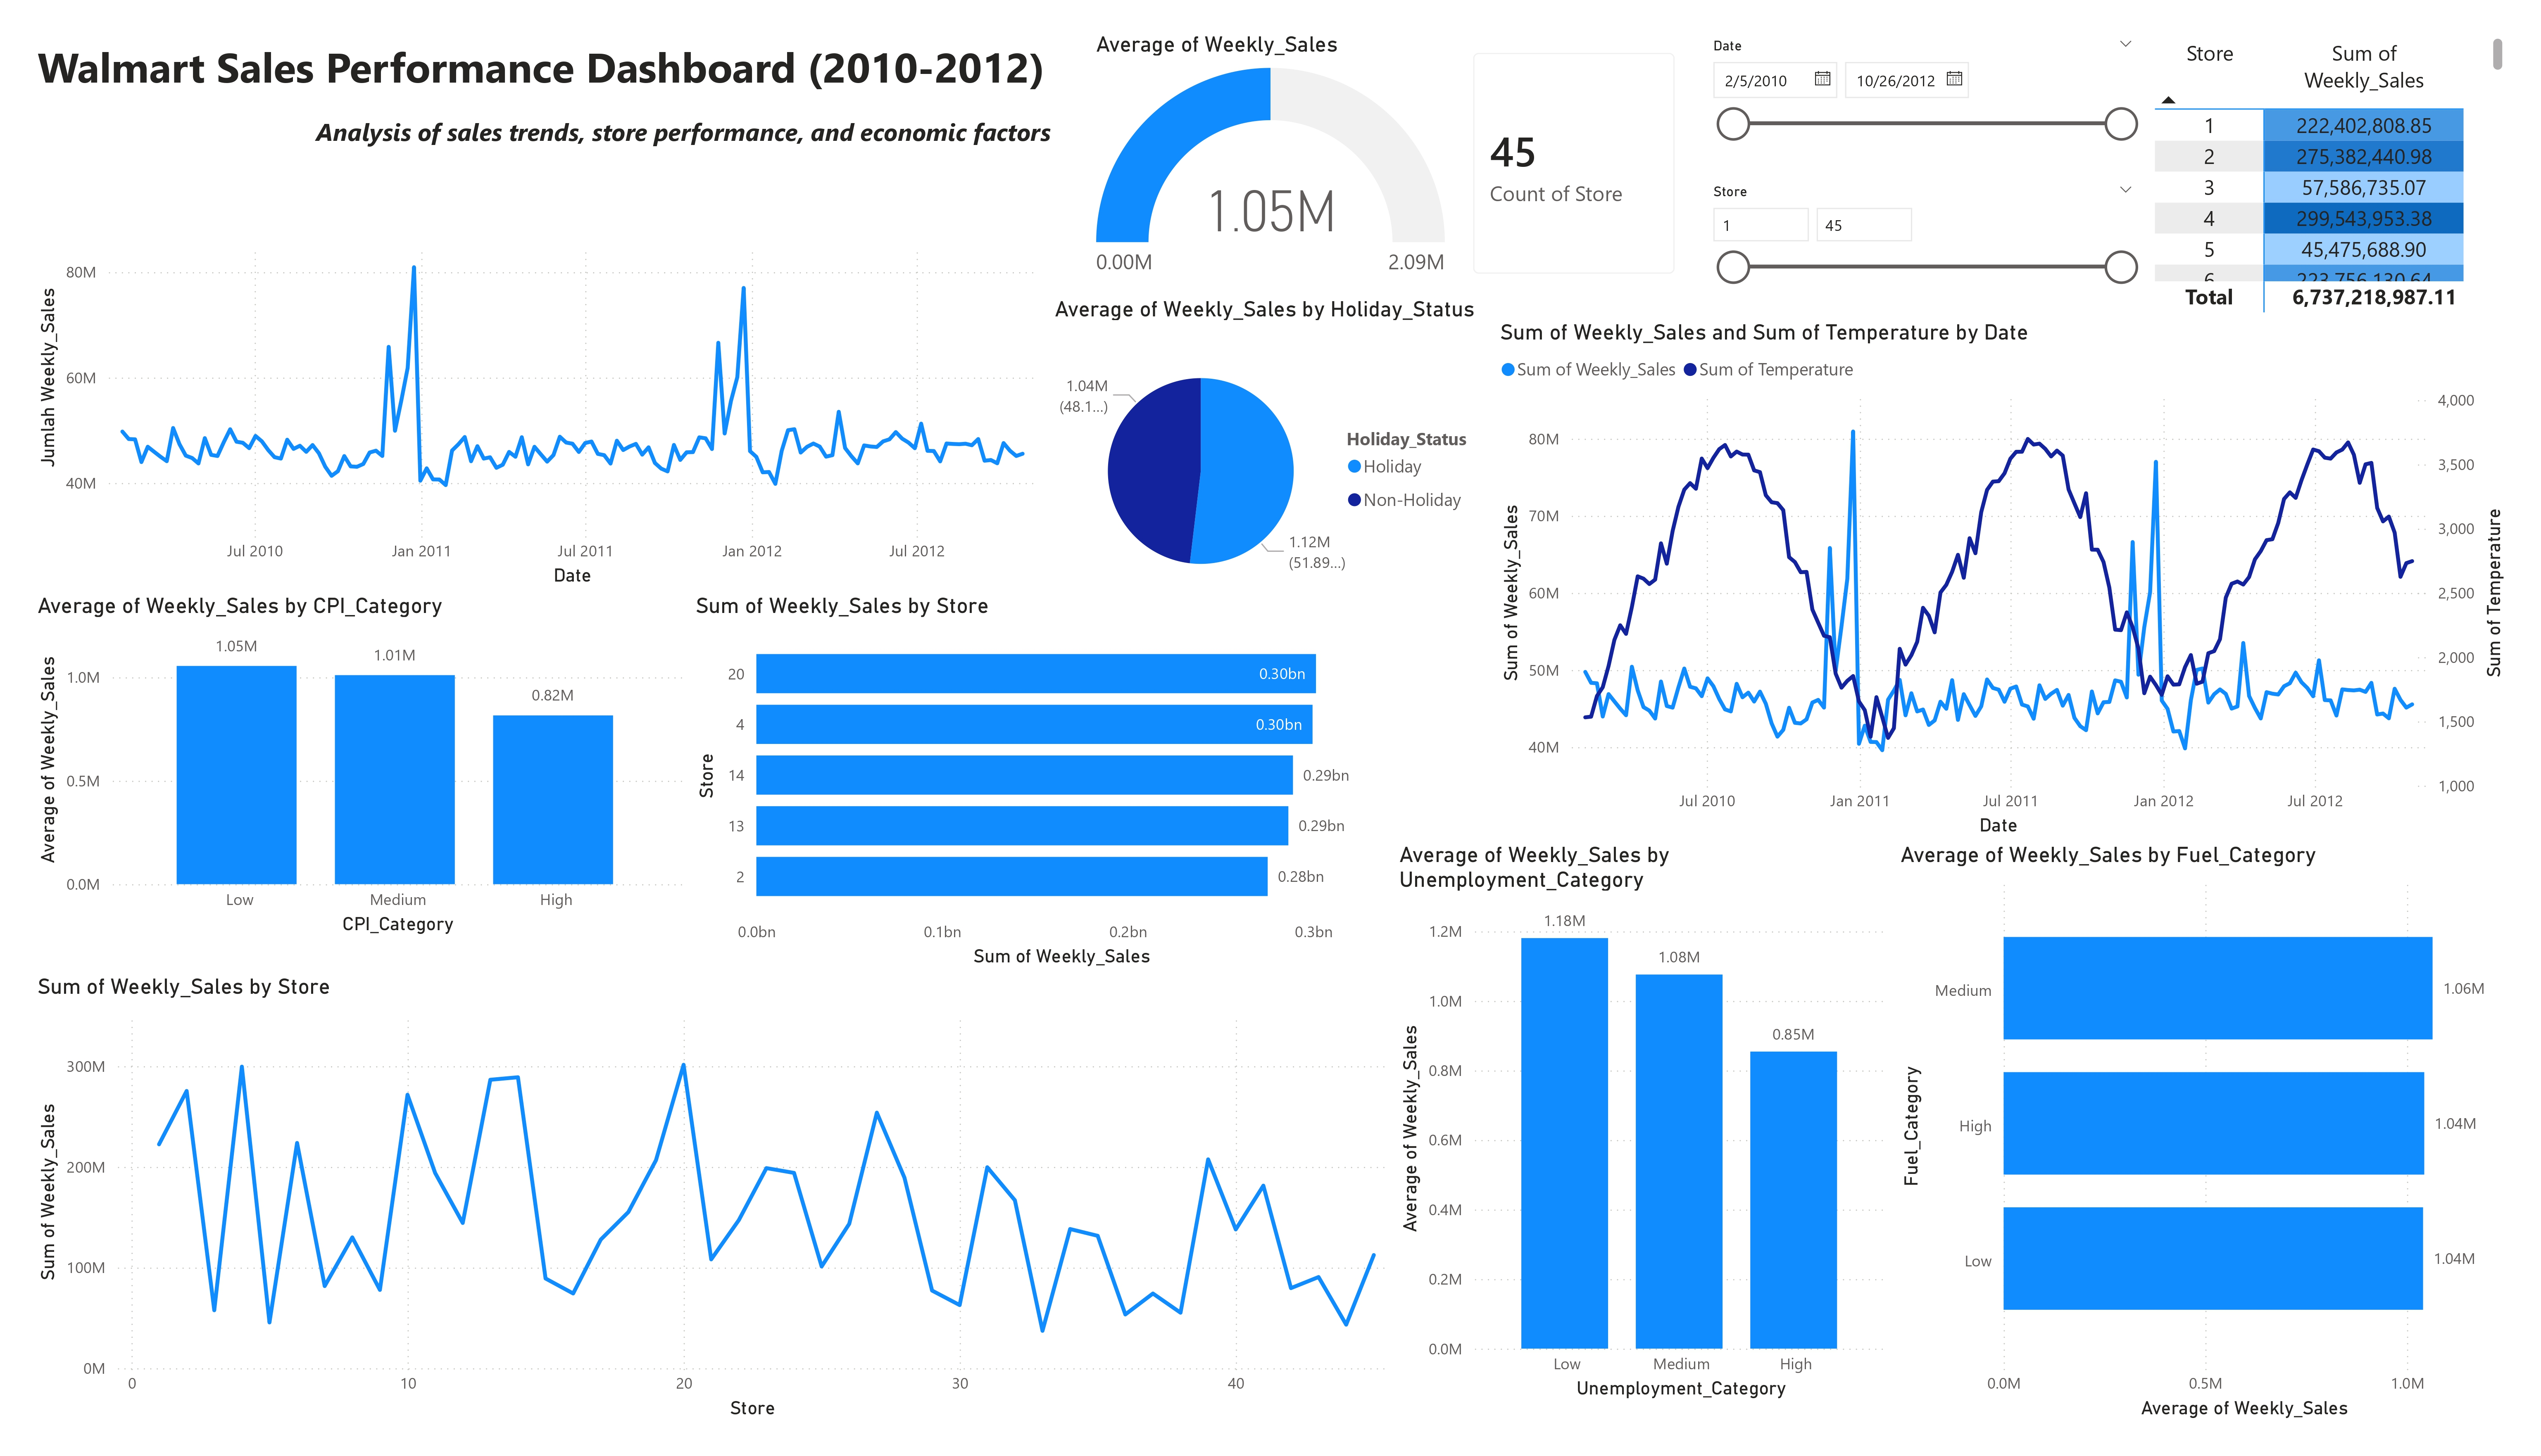

The page's visual inventory and layout, read from the dashboard file:
{"tool":"powerbi","page":{"name":"Halaman 1","canvas":[1920,1080],"ordinal":0},"visuals":[{"type":"cardVisual","fields":{"Data":["Count(Walmart_Sales.Store)"]},"box":[1100,0,190,205],"z":0},{"type":"lineChart","fields":{"Y":["Sum(Walmart_Sales.Weekly_Sales)"],"Category":["Walmart_Sales.Date"]},"box":[0,112.5,795,322.5],"z":1000},{"type":"lineChart","fields":{"Y":["Sum(Walmart_Sales.Weekly_Sales)"],"Category":["Walmart_Sales.Store"]},"box":[0,730,1055,350],"z":2000},{"type":"pieChart","fields":{"Category":["Walmart_Sales.Holiday_Status"],"Y":["Avg(Walmart_Sales.Weekly_Sales)"]},"box":[787.5,205,345,252.5],"z":3000},{"type":"slicer","fields":{"Values":["Walmart_Sales.Store"]},"box":[1290,112.5,350,110],"z":4000},{"type":"slicer","fields":{"Values":["Walmart_Sales.Date"]},"box":[1290,0,350,90],"z":5000},{"type":"lineChart","fields":{"Category":["Walmart_Sales.Date"],"Y":["Sum(Walmart_Sales.Weekly_Sales)"],"Y2":["Sum(Walmart_Sales.Temperature)"]},"box":[1132.5,222.5,787.5,405],"z":6000},{"type":"gauge","fields":{"Y":["Avg(Walmart_Sales.Weekly_Sales)"]},"box":[820,0,280,205],"z":7000},{"type":"pivotTable","fields":{"Values":["Sum(Walmart_Sales.Weekly_Sales)"],"Rows":["Walmart_Sales.Store"]},"box":[1640,0,280,222.5],"z":8000},{"type":"clusteredColumnChart","fields":{"Y":["Avg(Walmart_Sales.Weekly_Sales)"],"Category":["Walmart_Sales.Unemployment_Category"]},"box":[1055,627.5,387.5,437.5],"z":9000},{"type":"clusteredBarChart","fields":{"Category":["Walmart_Sales.Fuel_Category"],"Y":["Avg(Walmart_Sales.Weekly_Sales)"]},"box":[1442.5,627.5,477.5,452.5],"z":10000},{"type":"lineClusteredColumnComboChart","fields":{"Category":["Walmart_Sales.CPI_Category"],"Y":["Avg(Walmart_Sales.Weekly_Sales)"]},"box":[0,435,510,270],"z":11000},{"type":"clusteredBarChart","fields":{"Category":["Walmart_Sales.Store"],"Y":["Sum(Walmart_Sales.Weekly_Sales)"]},"box":[510,435,545,295],"z":12000},{"type":"textbox","title":"Walmart Sales Performance Dashboard","box":[0,0,795,167.5],"z":13000}]}

Visuals, with their boxes on the page's 1920x1080 design canvas (x1, y1, x2, y2). These are canvas units, not pixel positions in the 2541x1456 screenshot, which may show the page scaled, cropped or inside an application window:
cardVisual - Count(Walmart_Sales.Store): 1100 0 1290 205
lineChart - Sum(Walmart_Sales.Weekly_Sales) x Walmart_Sales.Date: 0 112 795 435
lineChart - Sum(Walmart_Sales.Weekly_Sales) x Walmart_Sales.Store: 0 730 1055 1080
pieChart - Walmart_Sales.Holiday_Status x Avg(Walmart_Sales.Weekly_Sales): 788 205 1132 458
slicer - Walmart_Sales.Store: 1290 112 1640 222
slicer - Walmart_Sales.Date: 1290 0 1640 90
lineChart - Walmart_Sales.Date x Sum(Walmart_Sales.Weekly_Sales): 1132 222 1920 628
gauge - Avg(Walmart_Sales.Weekly_Sales): 820 0 1100 205
pivotTable - Sum(Walmart_Sales.Weekly_Sales) x Walmart_Sales.Store: 1640 0 1920 222
clusteredColumnChart - Avg(Walmart_Sales.Weekly_Sales) x Walmart_Sales.Unemployment_Category: 1055 628 1442 1065
clusteredBarChart - Walmart_Sales.Fuel_Category x Avg(Walmart_Sales.Weekly_Sales): 1442 628 1920 1080
lineClusteredColumnComboChart - Walmart_Sales.CPI_Category x Avg(Walmart_Sales.Weekly_Sales): 0 435 510 705
clusteredBarChart - Walmart_Sales.Store x Sum(Walmart_Sales.Weekly_Sales): 510 435 1055 730
"Walmart Sales Performance Dashboard" textbox: 0 0 795 168
